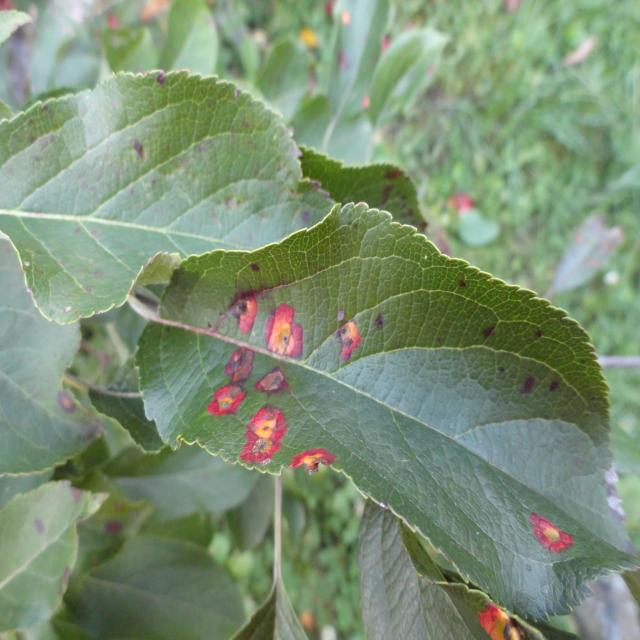rust: (132, 200, 638, 624)
